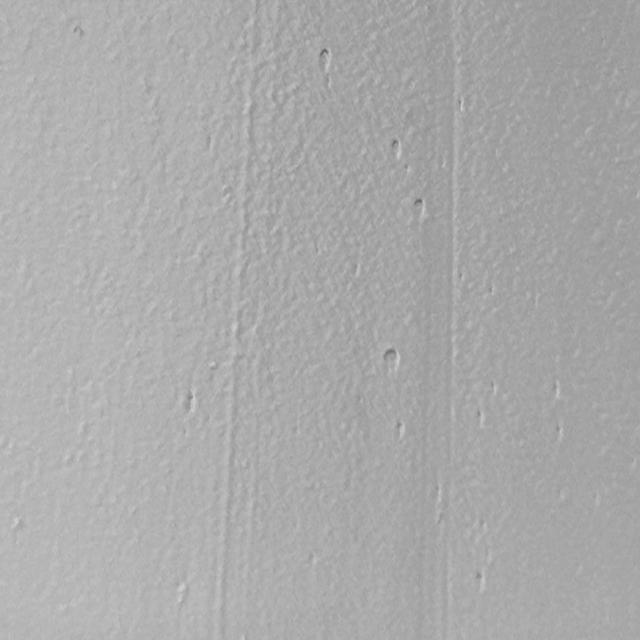pin holes: (380, 348, 402, 378), (313, 44, 334, 74), (412, 194, 428, 222), (177, 580, 191, 612), (388, 138, 406, 162), (181, 392, 199, 416), (548, 378, 566, 402), (471, 568, 487, 594), (391, 421, 407, 444), (70, 21, 87, 42), (553, 419, 566, 446), (474, 404, 484, 428), (489, 376, 499, 400)
